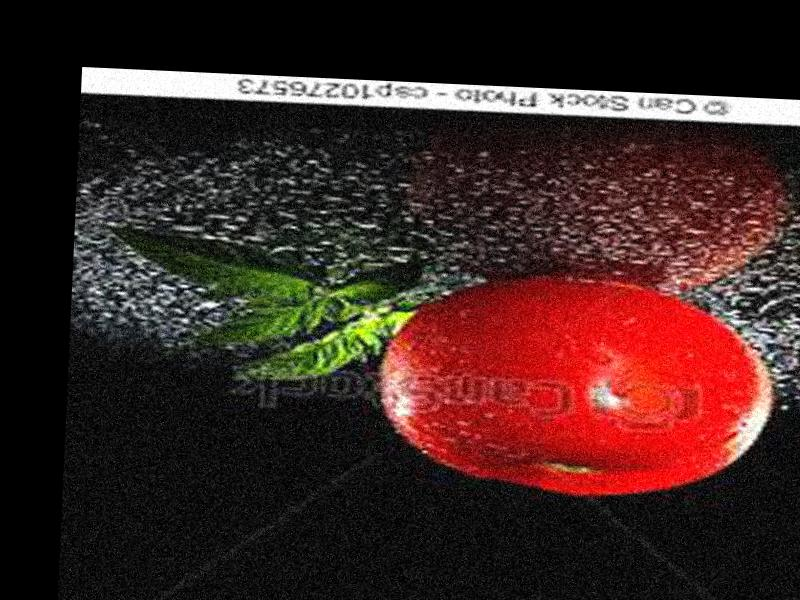Tomato: (376, 270, 775, 503)
